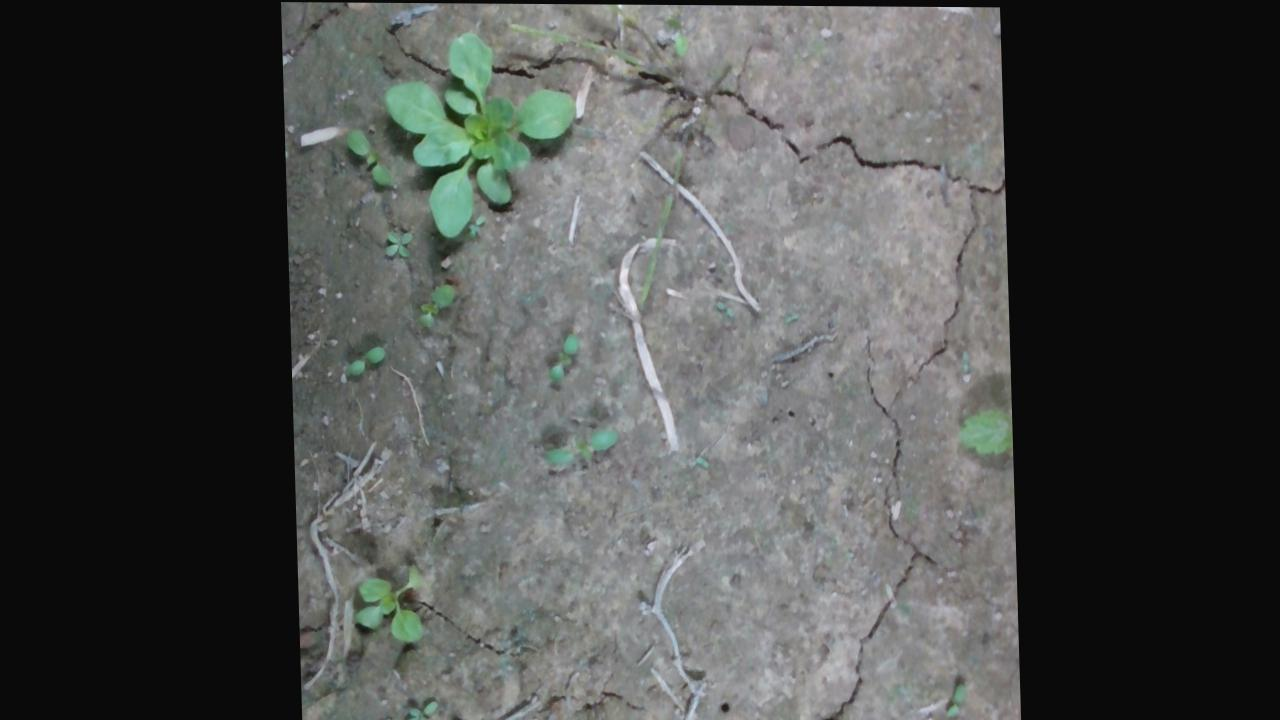weed: (344, 124, 393, 187), (415, 280, 456, 330), (345, 345, 386, 376), (381, 228, 413, 257), (399, 697, 436, 719)
